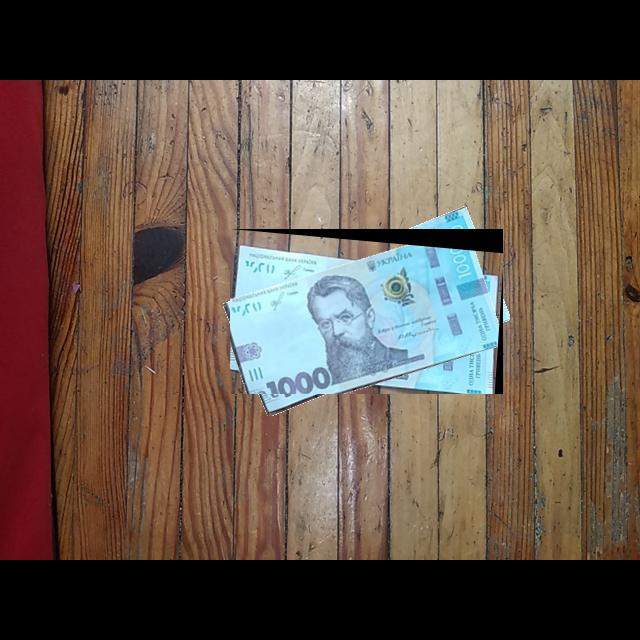1000uah: (230, 229, 504, 395)
